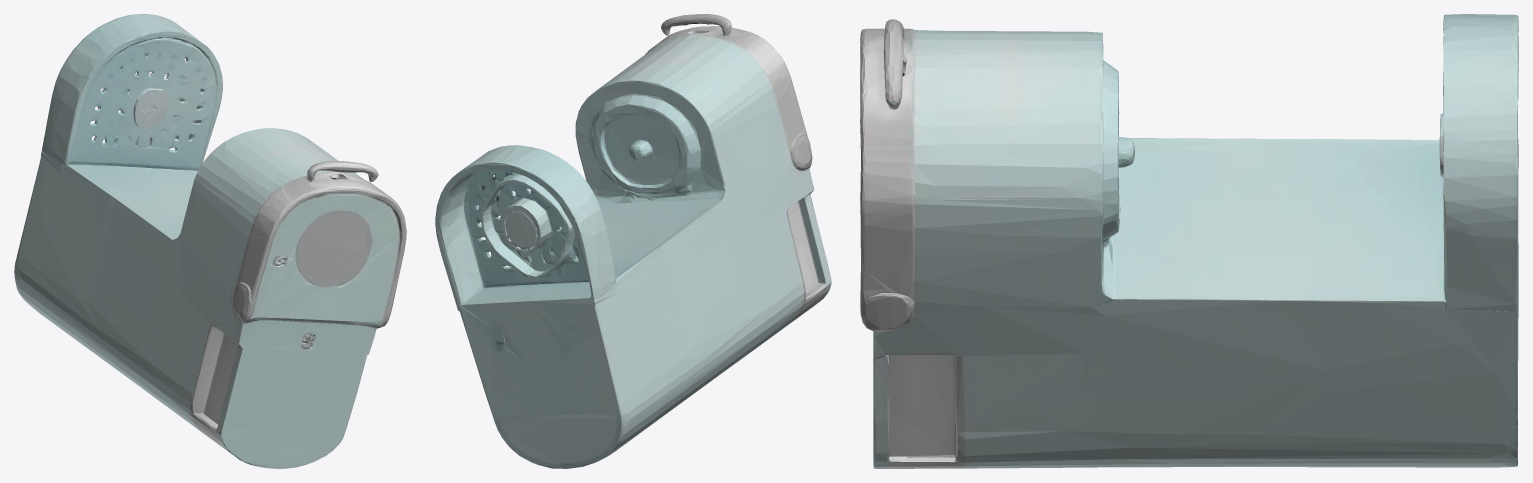
The model's file is keurig_mint.glb.
The picture shows the model from 3 angles, left to right: view 1: azimuth 30°, elevation 25°; view 2: azimuth 150°, elevation 25°; view 3: azimuth 270°, elevation 25°; orthographic projection. The views are drawn at different scales.
Parts seen in each view (by area): view 1: geometry_0; view 2: geometry_0; view 3: geometry_0.
Part boxes in pixels (<box>): geometry_0: <box>14,14,406,468</box>; geometry_0: <box>435,14,831,468</box>; geometry_0: <box>860,14,1518,468</box>.
Size of the model in its own units: 0.1575 by 0.2348 by 0.3082.
Materials: 1 (1 with a texture image).
